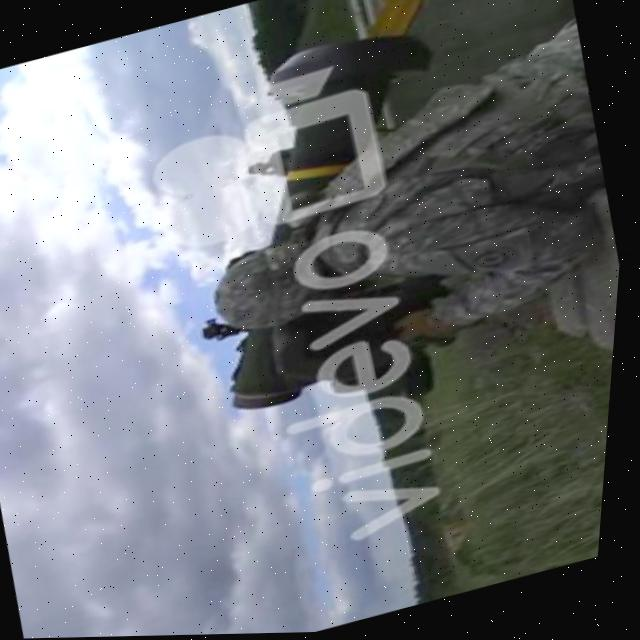rocket: (138, 10, 515, 424)
